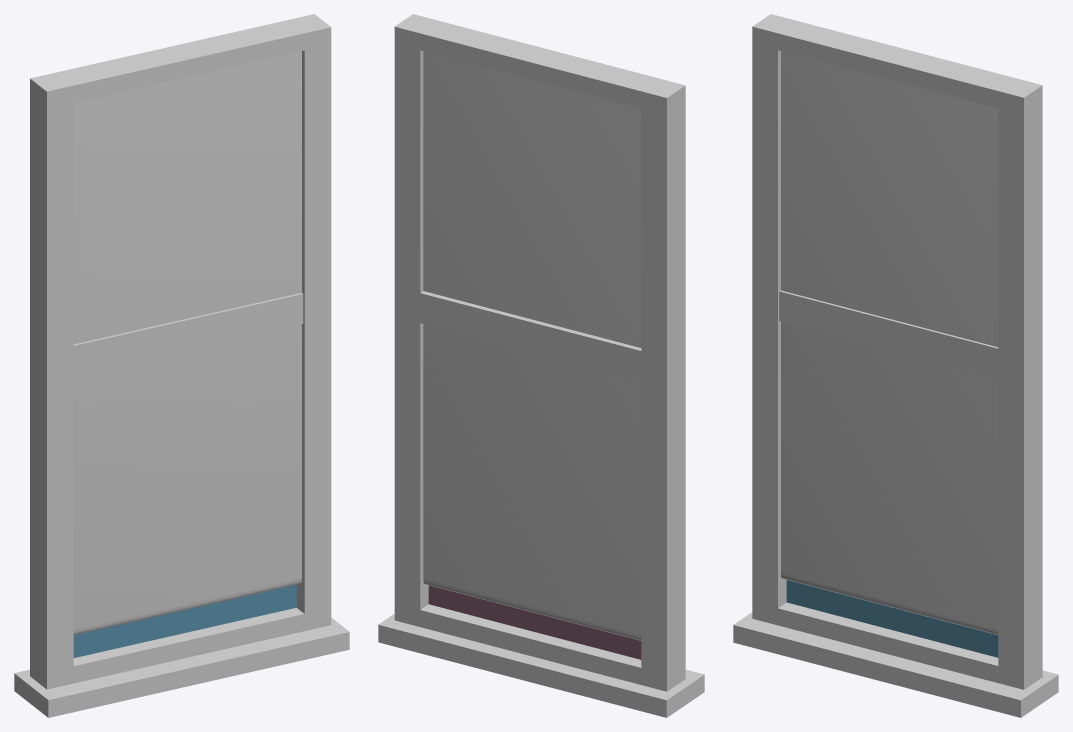
The model's file is Window2.gltf.
The picture shows the model from 3 angles, left to right: view 1: azimuth 30°, elevation 25°; view 2: azimuth 150°, elevation 25°; view 3: azimuth 330°, elevation 25°; orthographic projection.
Parts seen in each view (by area): view 1: Cube.1 (×3), Cube (×2), Cube.1-Window Material; view 2: Cube (×3), Cube.1 (×2), Cube.1-Window 2; view 3: Cube.1 (×3), Cube (×2), Cube.1-Window Material.
Part boxes in pixels (box(x1,y1,x2,y2)): Cube.1 (×3): box(73, 50, 304, 665); Cube (×2): box(14, 14, 349, 717); Cube.1-Window Material: box(73, 585, 296, 657); Cube (×3): box(378, 14, 704, 717); Cube.1 (×2): box(399, 50, 662, 667); Cube.1-Window 2: box(428, 585, 641, 659); Cube.1 (×3): box(778, 50, 998, 665); Cube (×2): box(733, 14, 1058, 717); Cube.1-Window Material: box(786, 580, 998, 657).
Bounding box in the file's own units: 252 × 497 × 60.84.
